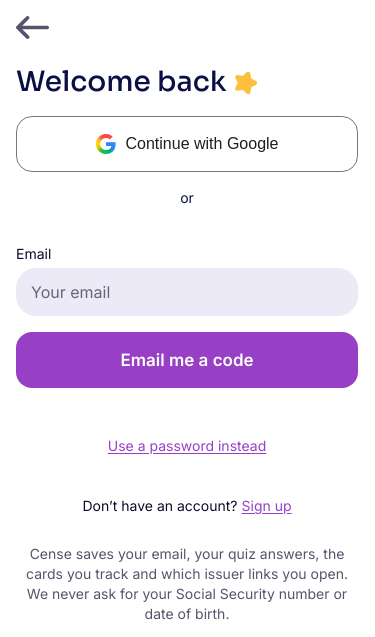
Scenario: password sign-up and log-in › says a wrong password plainly on log-in, on the password field
Click the button "Use a password instead" at (187,446), box [16,424,358,468]
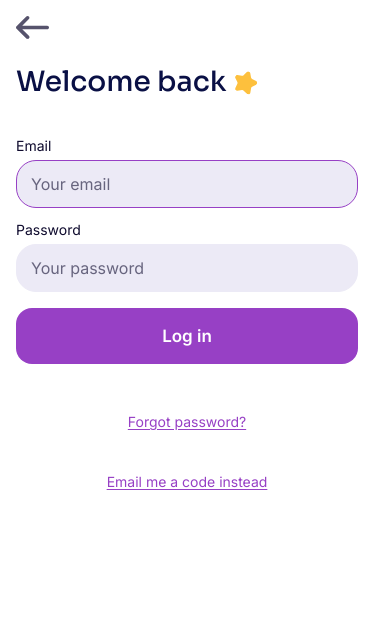
Type "alex@email.com" into the field labelled "Email" at (190,184), box [31,161,349,207]
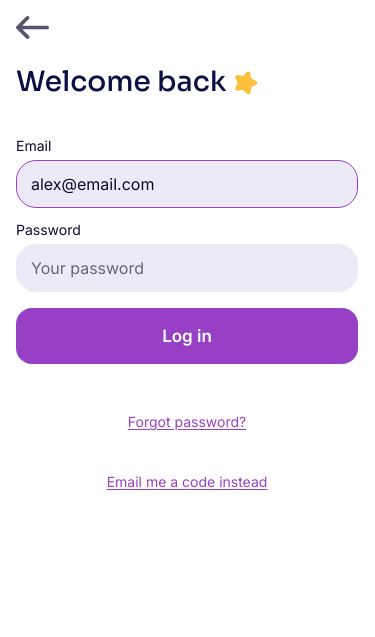
Type "nope-nope" into the password field labelled "Password" at (168,268), box [31,245,305,291]
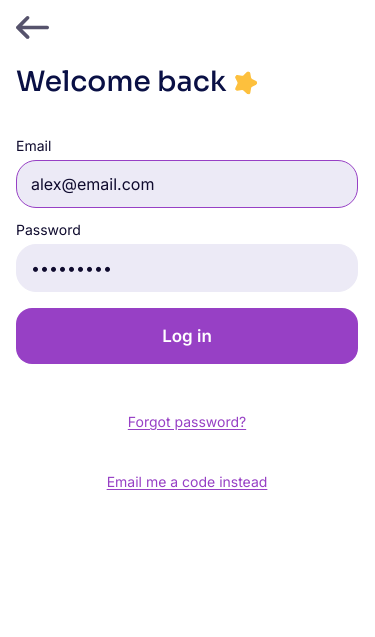
Click the button "Log in" at (187,336), box [16,308,358,364]
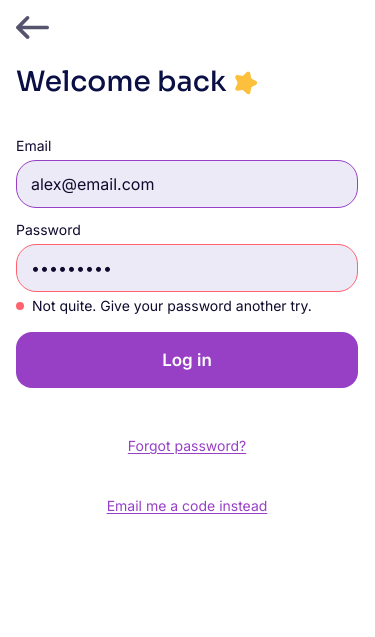
Expected: the text "Not quite. Give your password another try." is shown, [32,296,312,316]
